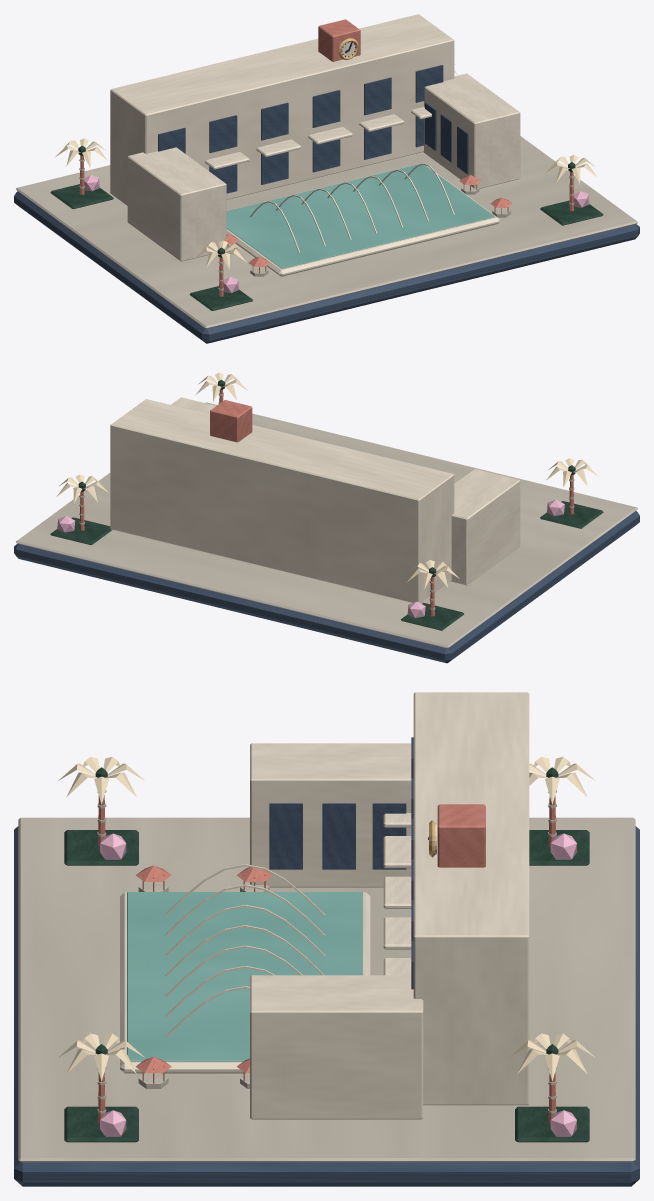
Rendered from cairo-festival-city-diorama.glb.
3 renders of one model, top to bottom at view 1: azimuth 30°, elevation 25°; view 2: azimuth 150°, elevation 25°; view 3: azimuth 270°, elevation 25°, orthographic. The views are drawn at different scales.
Visible parts, largest first — view 1: cairo-festival-city; view 2: cairo-festival-city; view 3: cairo-festival-city.
Boxes of the visible parts, x1,y1,x2,y2 form: cairo-festival-city: (14,14,639,343); cairo-festival-city: (14,372,639,663); cairo-festival-city: (14,692,639,1186).
Bounding box in the file's own units: 17 × 5.62 × 13.
1 material, 1 textured.
